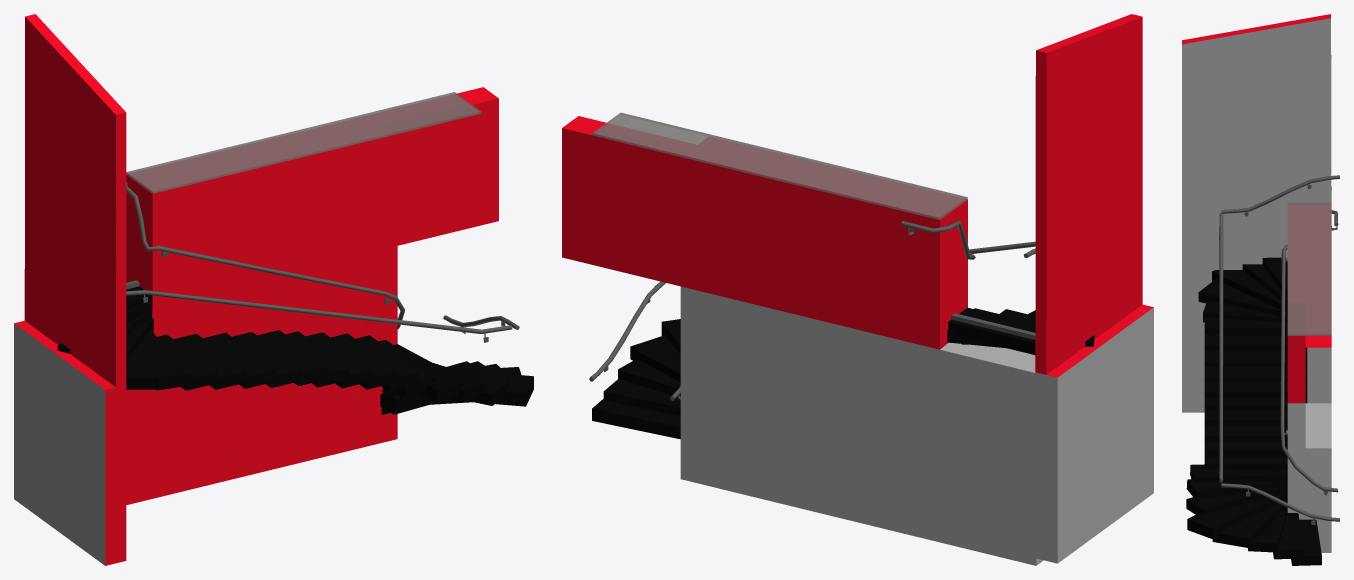
Rendered from escalier.gltf.
3 renders of one model, left to right at view 1: azimuth 30°, elevation 25°; view 2: azimuth 150°, elevation 25°; view 3: azimuth 270°, elevation 25°, orthographic. The views are drawn at different scales.
Parts seen in each view (by area): view 1: etage_mur_escalier_1, etage_mur_escalier_bar, etage_marches, etage_mur_escalier_bar_1, table_comptoir, rambardes_escalier; view 2: etage_mur_escalier, etage_mur_escalier_1, etage_mur_escalier_bar, etage_mur_escalier_bar_1, table_comptoir, etage_marches, rambardes_escalier; view 3: etage_mur_escalier_bar_1, etage_marches, table_comptoir, etage_mur_escalier, rambardes_escalier, etage_mur_escalier_1, etage_mur_escalier_bar.
Part boxes in pixels (left/top/right/bottom): etage_mur_escalier_1: left=126, top=87, right=498, bottom=505; etage_mur_escalier_bar: left=14, top=14, right=126, bottom=565; etage_marches: left=57, top=286, right=533, bottom=414; etage_mur_escalier_bar_1: left=14, top=323, right=105, bottom=565; table_comptoir: left=126, top=92, right=481, bottom=193; rambardes_escalier: left=126, top=182, right=519, bottom=342; etage_mur_escalier: left=680, top=286, right=1043, bottom=565; etage_mur_escalier_1: left=562, top=116, right=967, bottom=349; etage_mur_escalier_bar: left=1035, top=14, right=1153, bottom=377; etage_mur_escalier_bar_1: left=1035, top=307, right=1153, bottom=563; table_comptoir: left=592, top=112, right=967, bottom=219; etage_marches: left=592, top=307, right=1094, bottom=439; rambardes_escalier: left=589, top=220, right=1035, bottom=400; etage_mur_escalier_bar_1: left=1182, top=18, right=1331, bottom=412; etage_marches: left=1186, top=257, right=1321, bottom=565; table_comptoir: left=1287, top=202, right=1331, bottom=335; etage_mur_escalier: left=1287, top=403, right=1331, bottom=552; rambardes_escalier: left=1219, top=175, right=1339, bottom=524; etage_mur_escalier_1: left=1287, top=336, right=1331, bottom=403; etage_mur_escalier_bar: left=1182, top=14, right=1331, bottom=189.
Size of the model in its own units: 2.31 by 2.29 by 0.8206.
